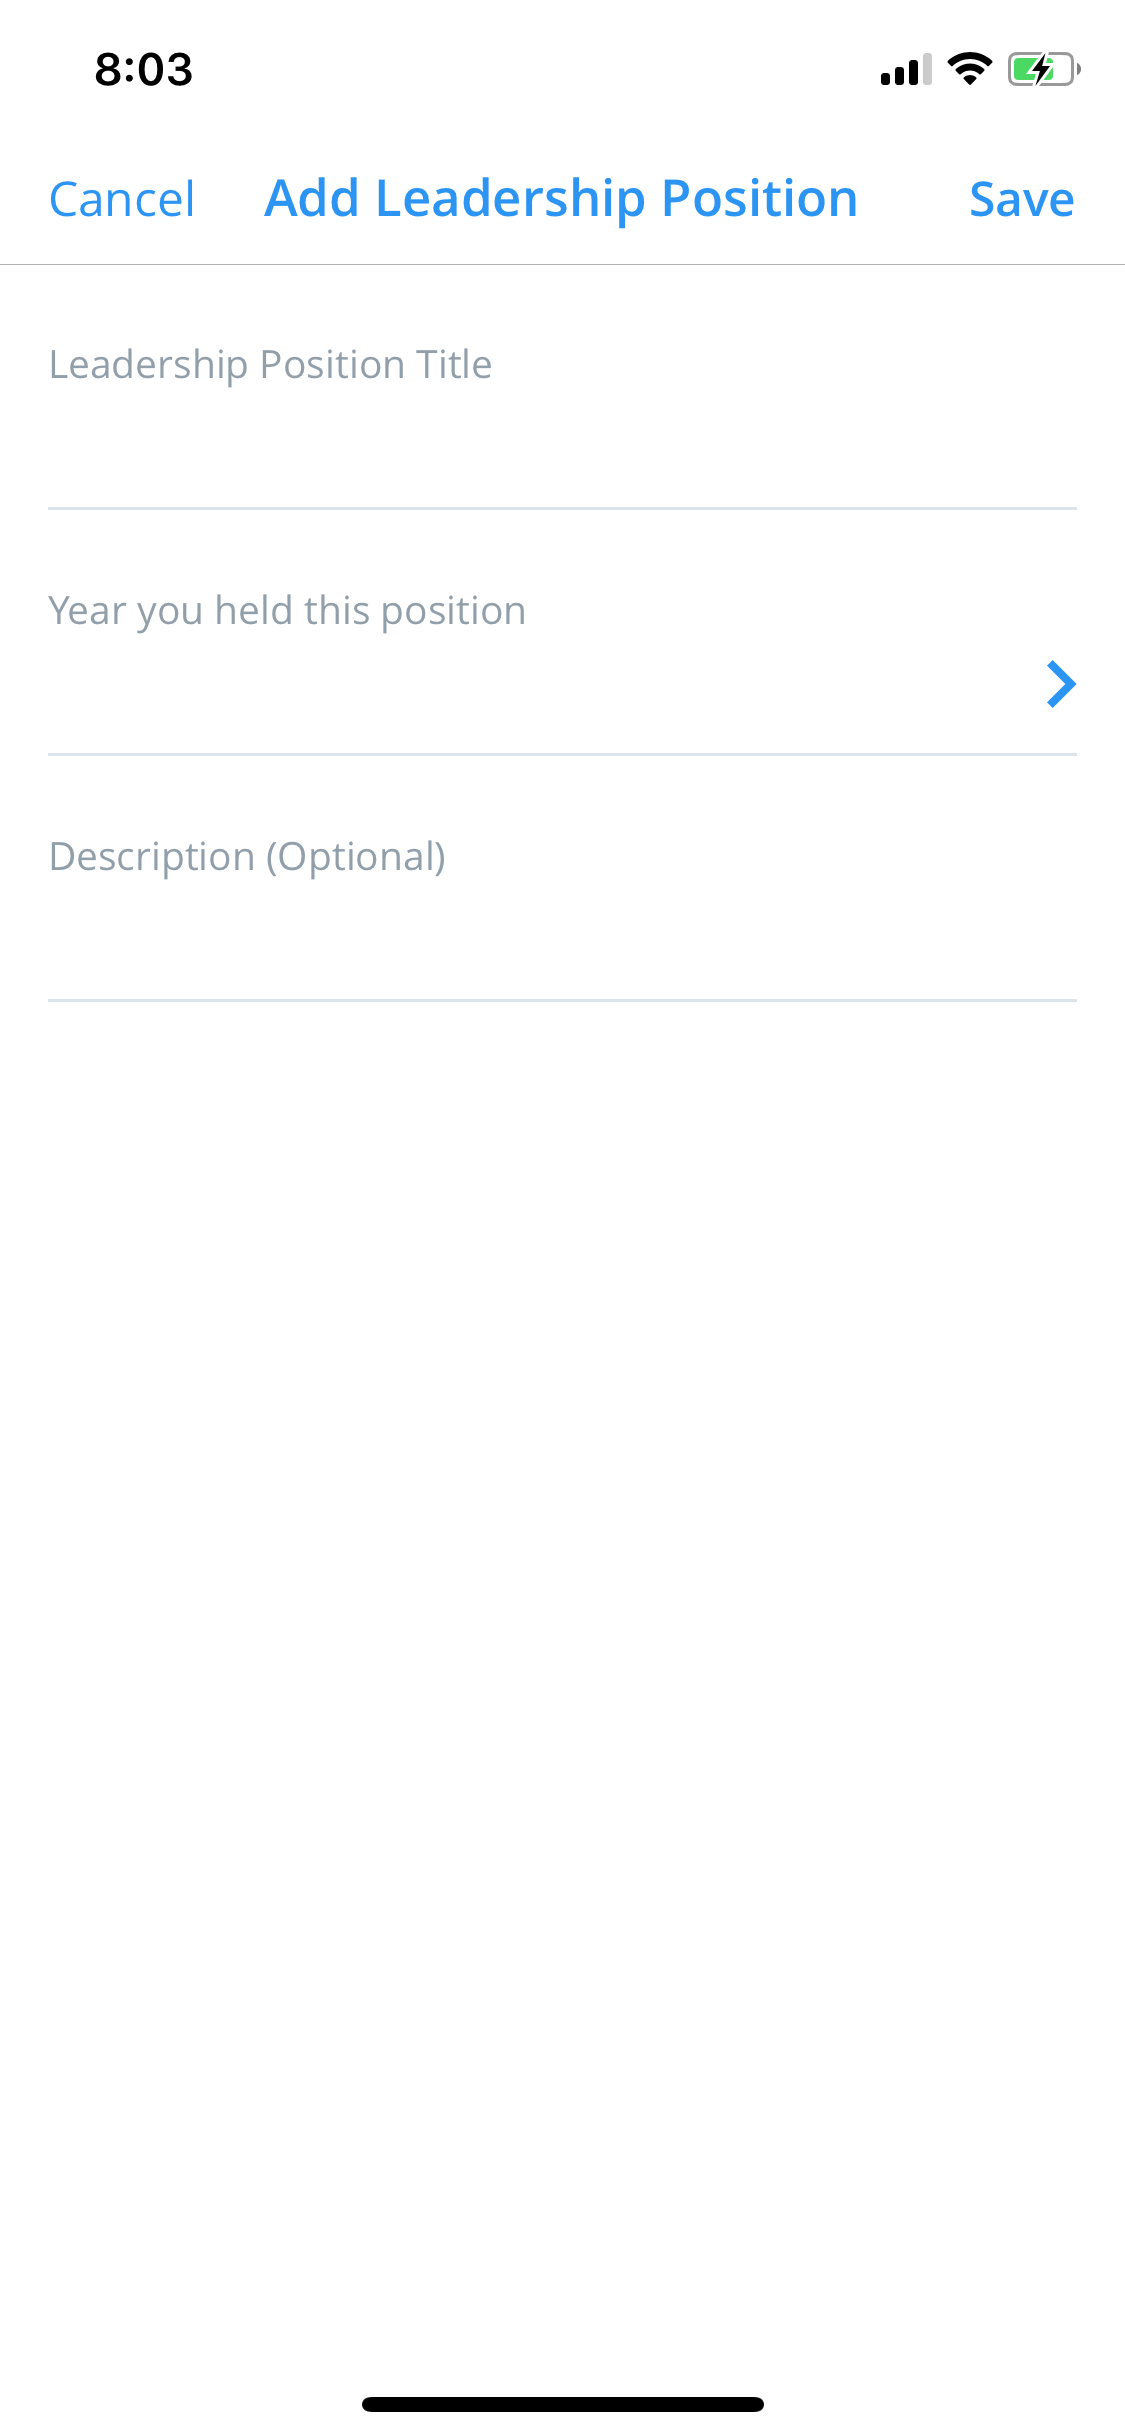Buttons: (22, 137, 225, 256), (942, 138, 1092, 259)
Text Fields: (26, 800, 1092, 1028), (19, 312, 1092, 534)
